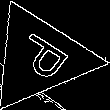P_SE: (6, 28, 74, 87)
